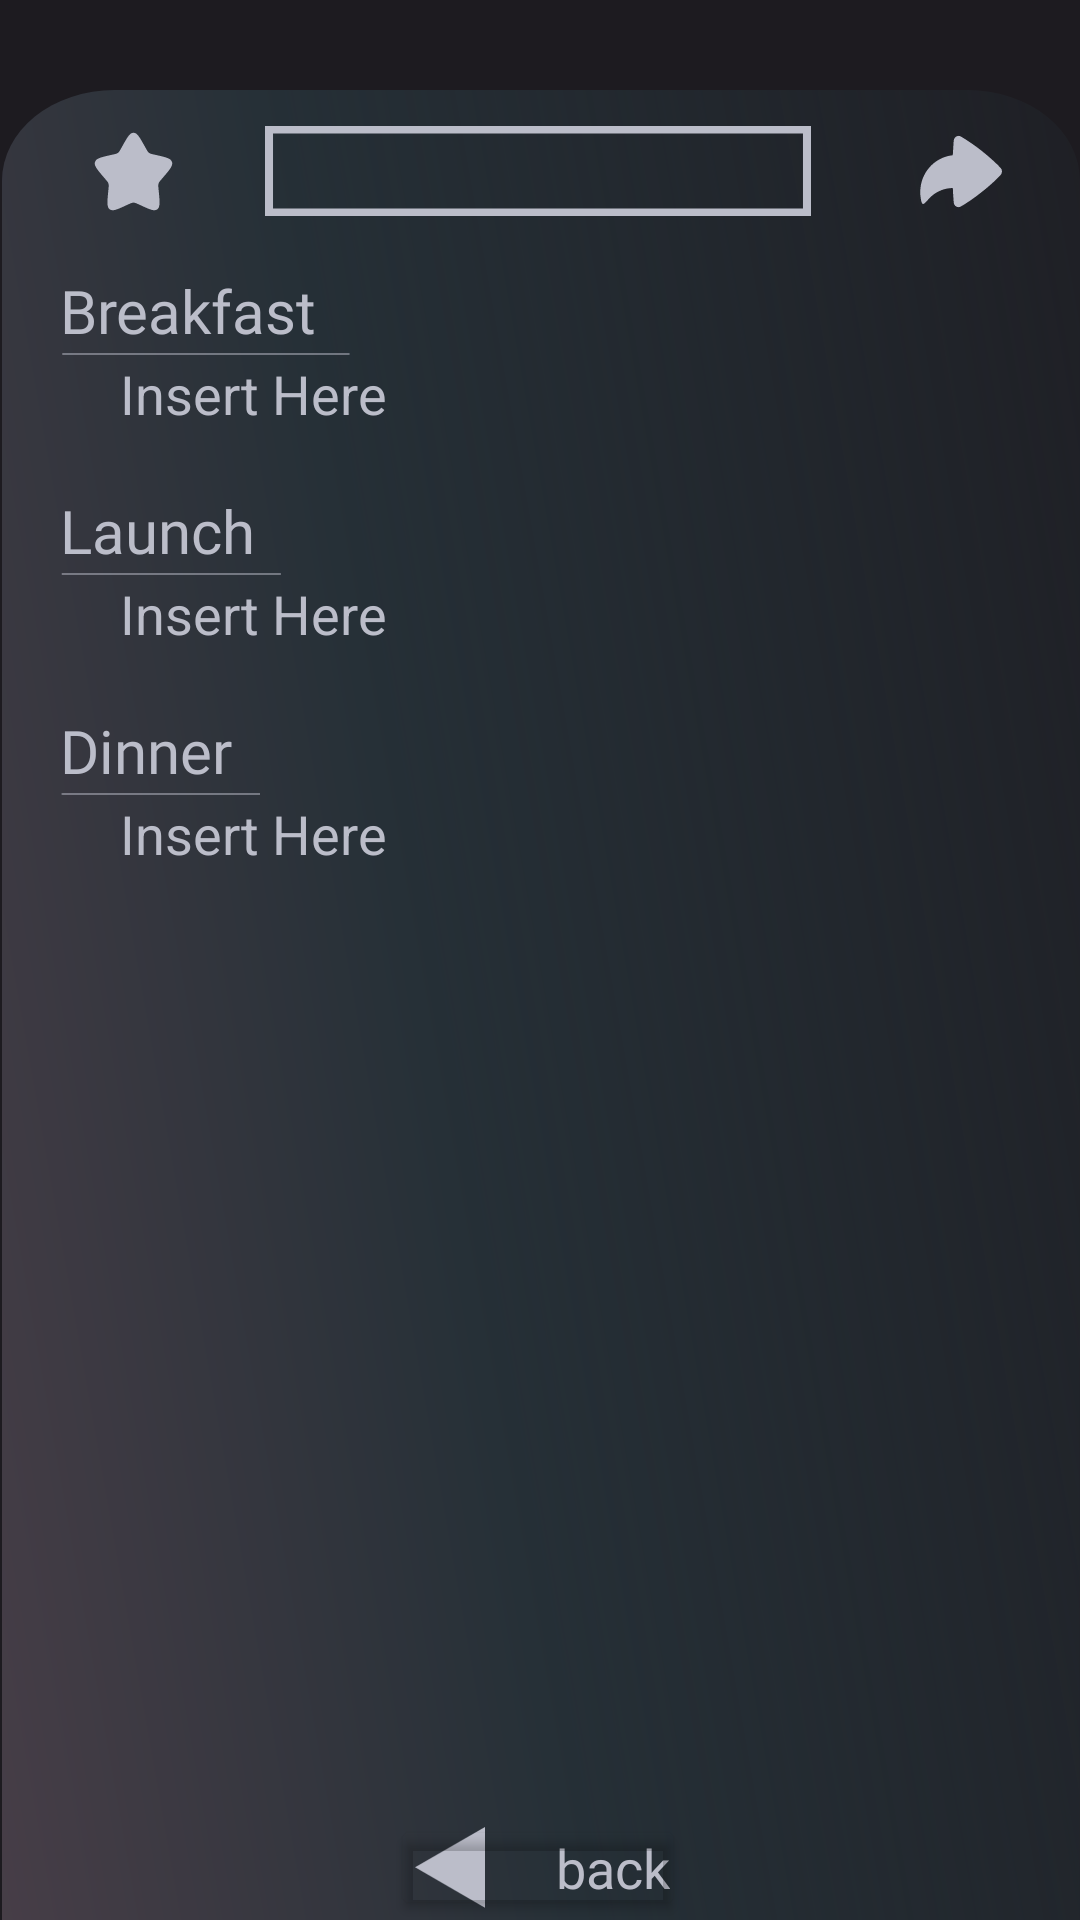

Locate icon controls on the screen. Image size 1080w x 1920h, boxes as (x1, y1, x2, y2).
share: (920, 136, 1002, 207)
star: (94, 132, 173, 211)
